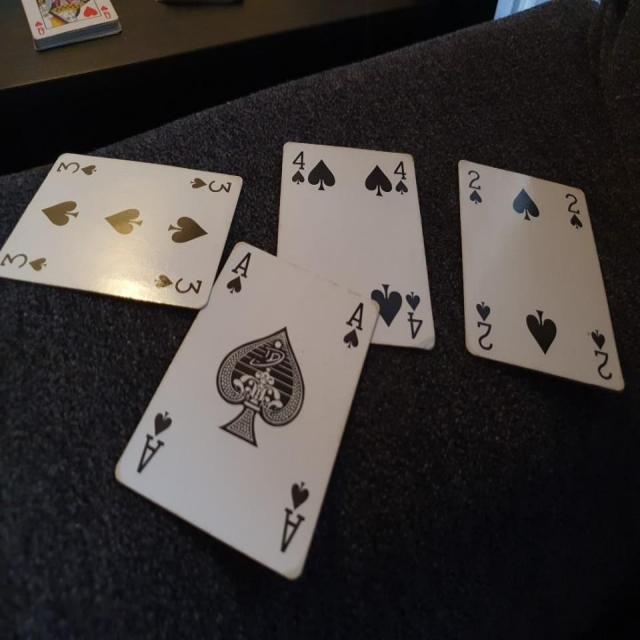2 Spades: (453, 145, 631, 398)
3 Spades: (0, 146, 246, 311)
4 Spades: (273, 136, 437, 353)
A Spades: (105, 242, 386, 572)
